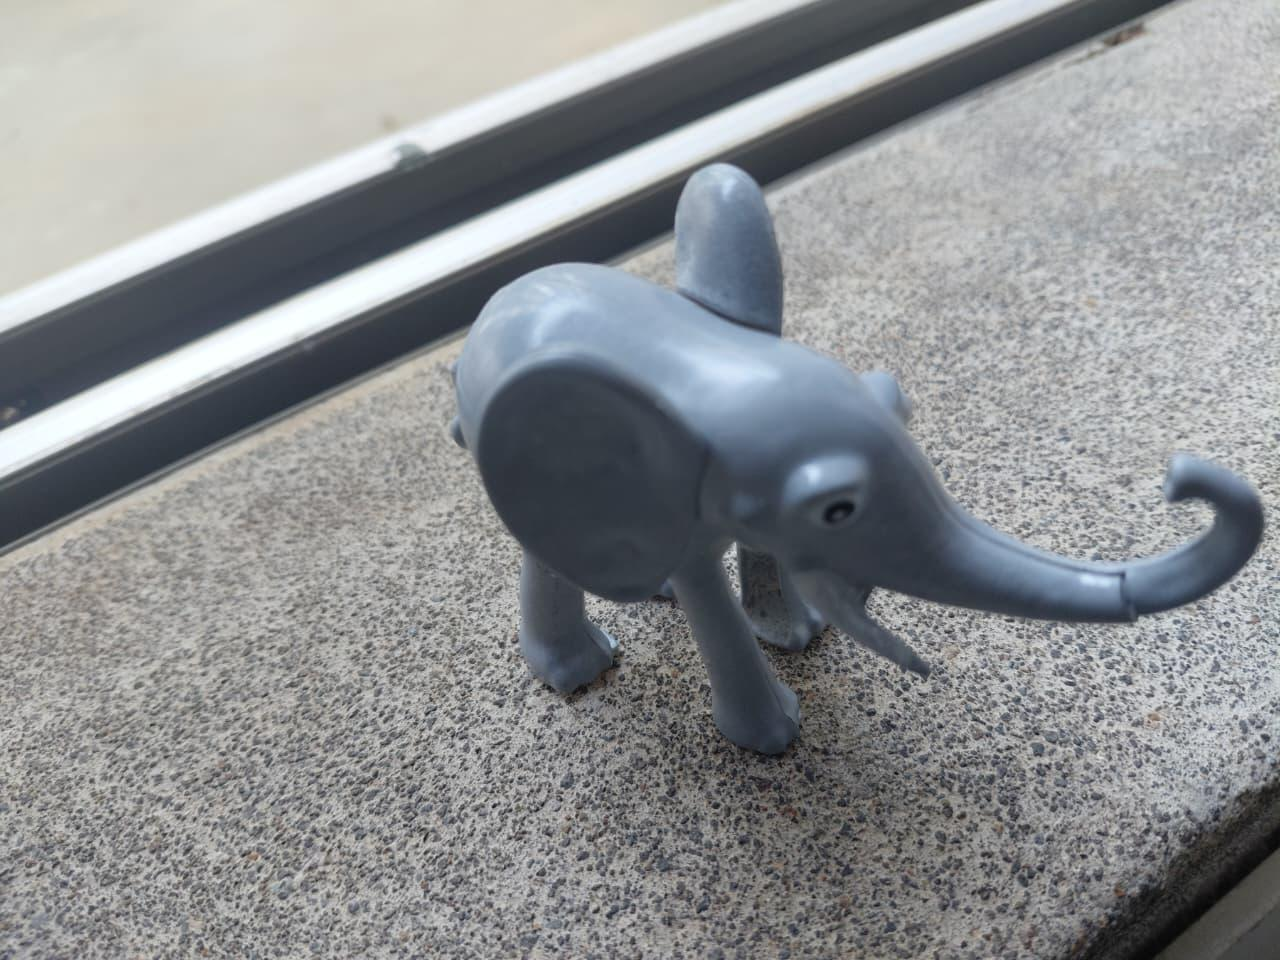elephant: (372, 144, 1280, 765)
